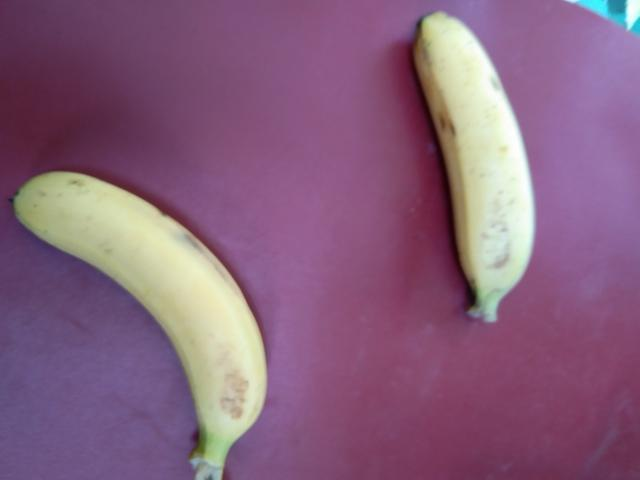freshripe: (7, 154, 277, 448), (404, 3, 541, 311)
